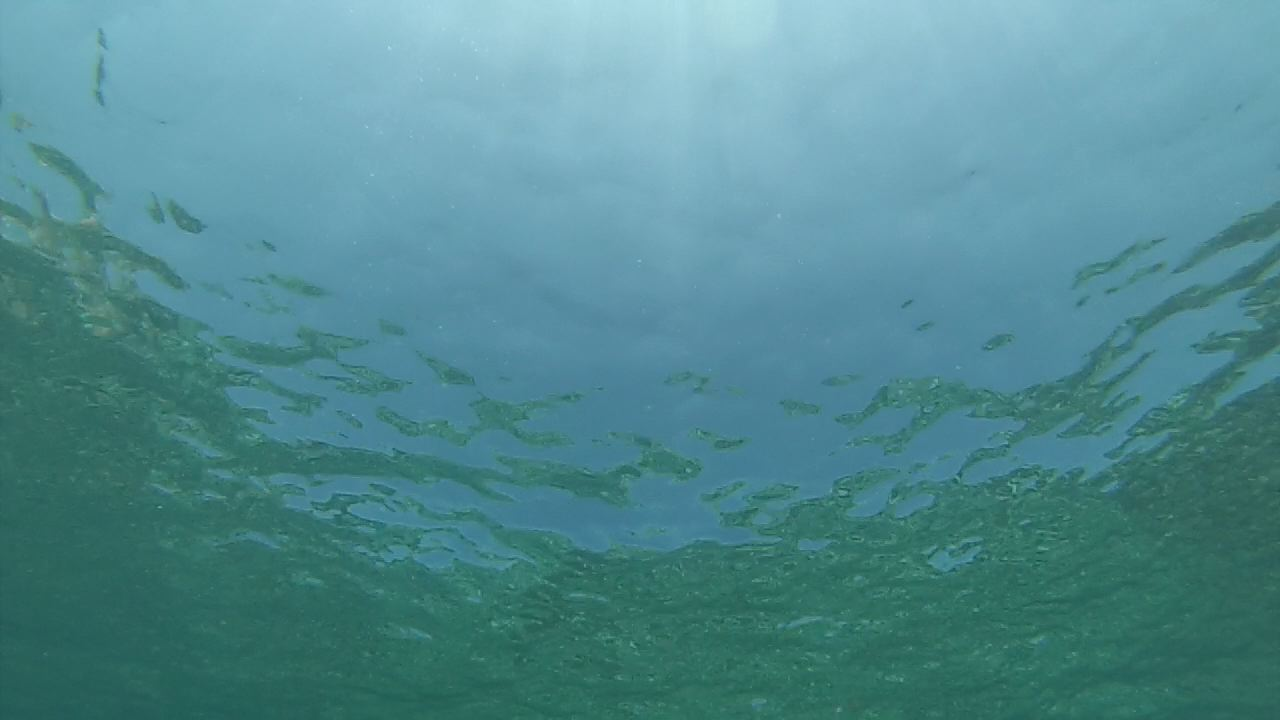pelagia: (75, 210, 103, 234)
